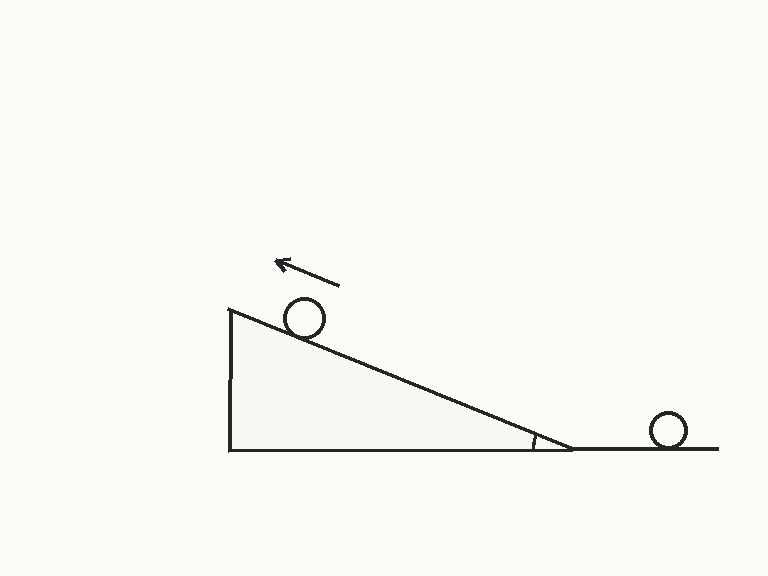ball: (281, 295, 327, 341), (647, 409, 689, 451)
ramp: (227, 308, 575, 451)
